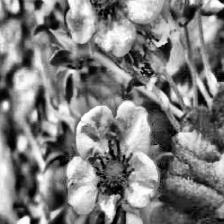Blossom Blight: (86, 135, 138, 204), (83, 0, 131, 30)
